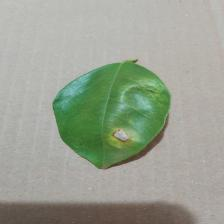greening: (108, 64, 172, 158)
